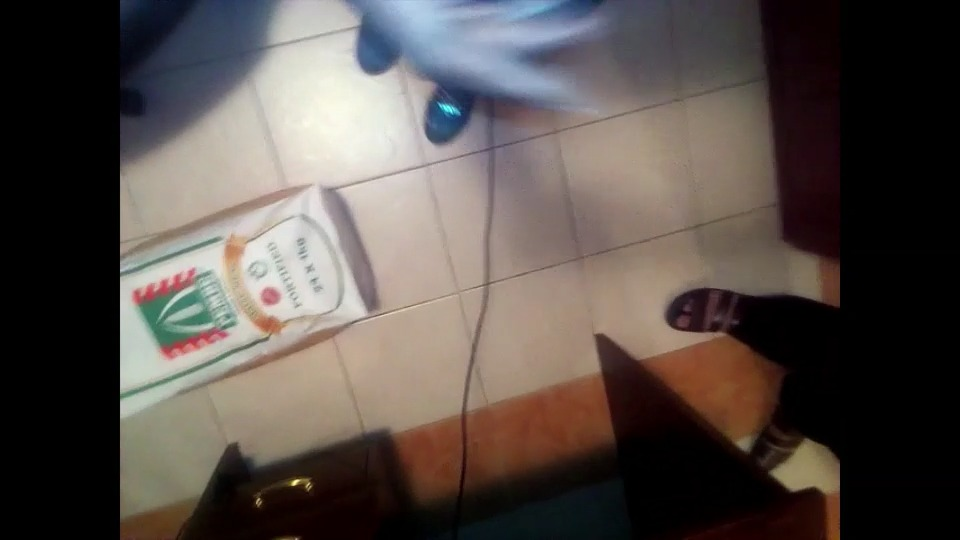maize_flour_green_label: (130, 186, 368, 399)
